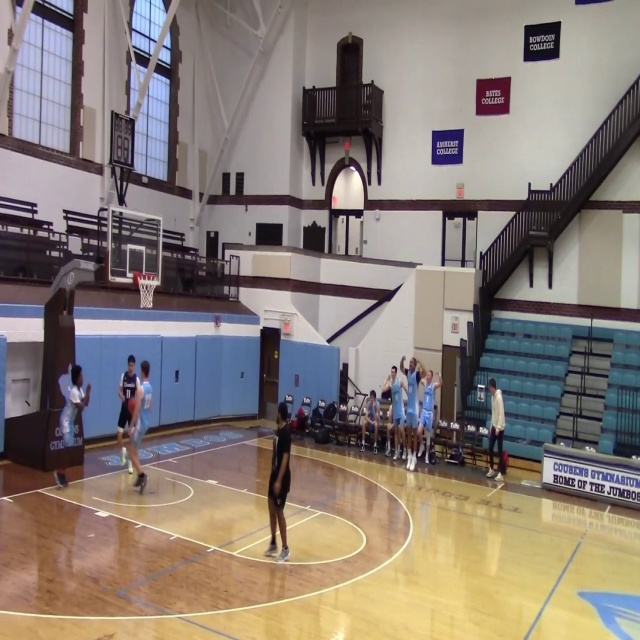Basketball: (126, 397, 137, 414)
